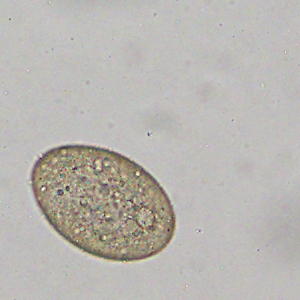Fasciola_hepatica_egg: (28, 141, 177, 263)
